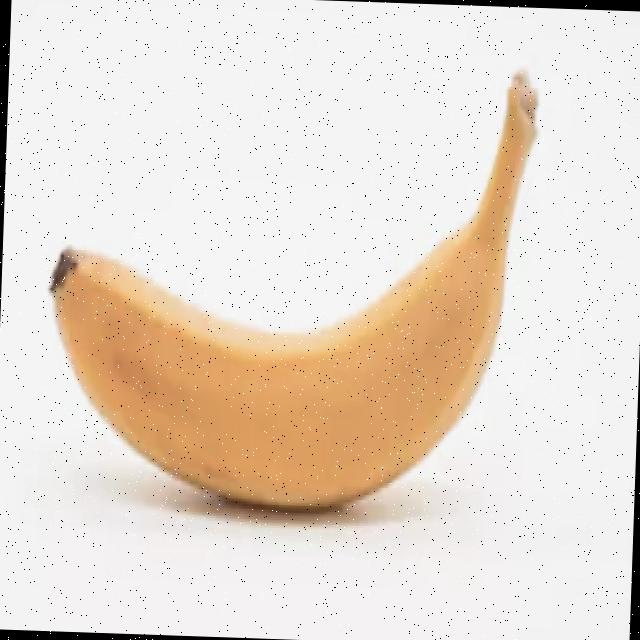Ripe: (28, 45, 550, 543)
